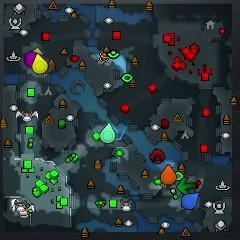p1: (181, 193, 199, 210)
p2: (99, 123, 116, 143)
p3: (24, 51, 45, 67)
p4: (32, 53, 48, 74)
p5: (162, 165, 176, 184)
x2: (32, 47, 43, 55)
x4: (177, 177, 197, 194)
